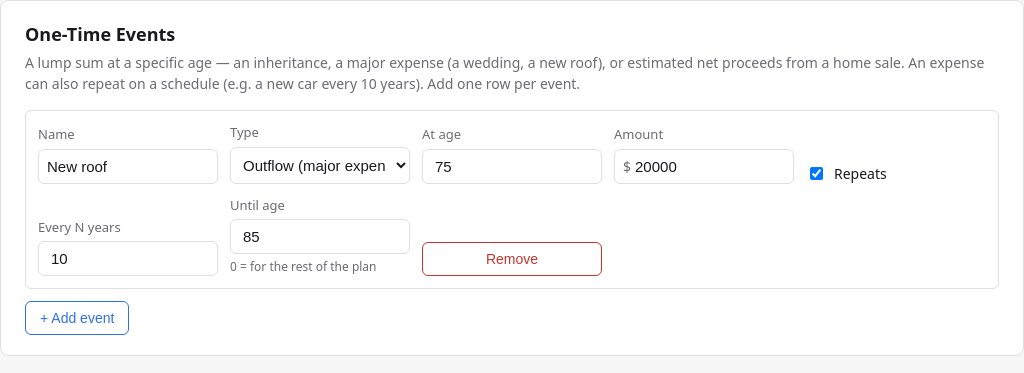
it: OneTimeEventsSection › hides the interval/end-age fields again when "Repeats" is unchecked
This screenshot has width=1024, height=373.
Check: the number field labelled "Every N years" holds "10", box [47,242,209,275]
Click the checkbox labelled "Repeats".
click(816, 173)  # box [810,166,823,180]
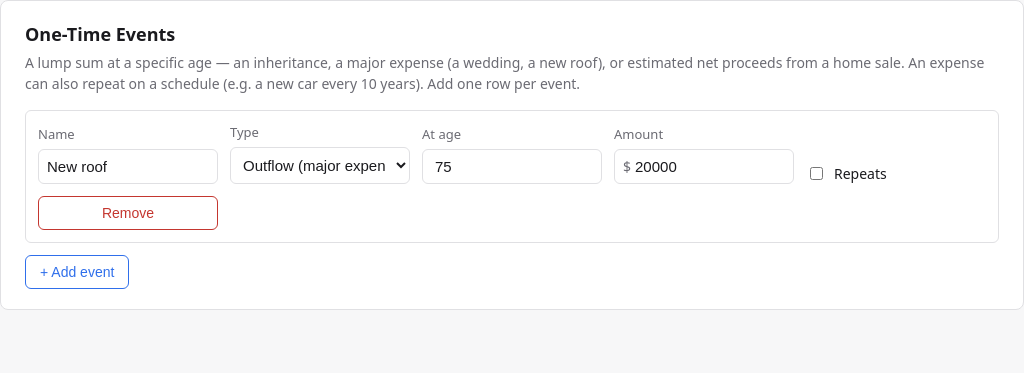
Check: the text labelled "Every N years" is gone
